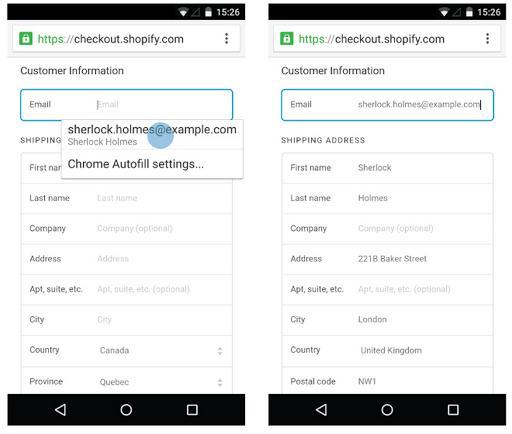dropdown: (22, 336, 234, 367), (22, 367, 234, 394)
icon: (221, 31, 236, 48), (484, 32, 497, 50)
input: (282, 89, 495, 122), (21, 90, 234, 122), (283, 153, 495, 185), (22, 214, 234, 245), (22, 183, 233, 214), (283, 306, 494, 337), (22, 245, 234, 275), (283, 186, 494, 216), (22, 306, 233, 336), (283, 245, 494, 275), (283, 276, 494, 306), (283, 216, 495, 245), (22, 276, 234, 305), (283, 338, 494, 367), (283, 367, 495, 394)
